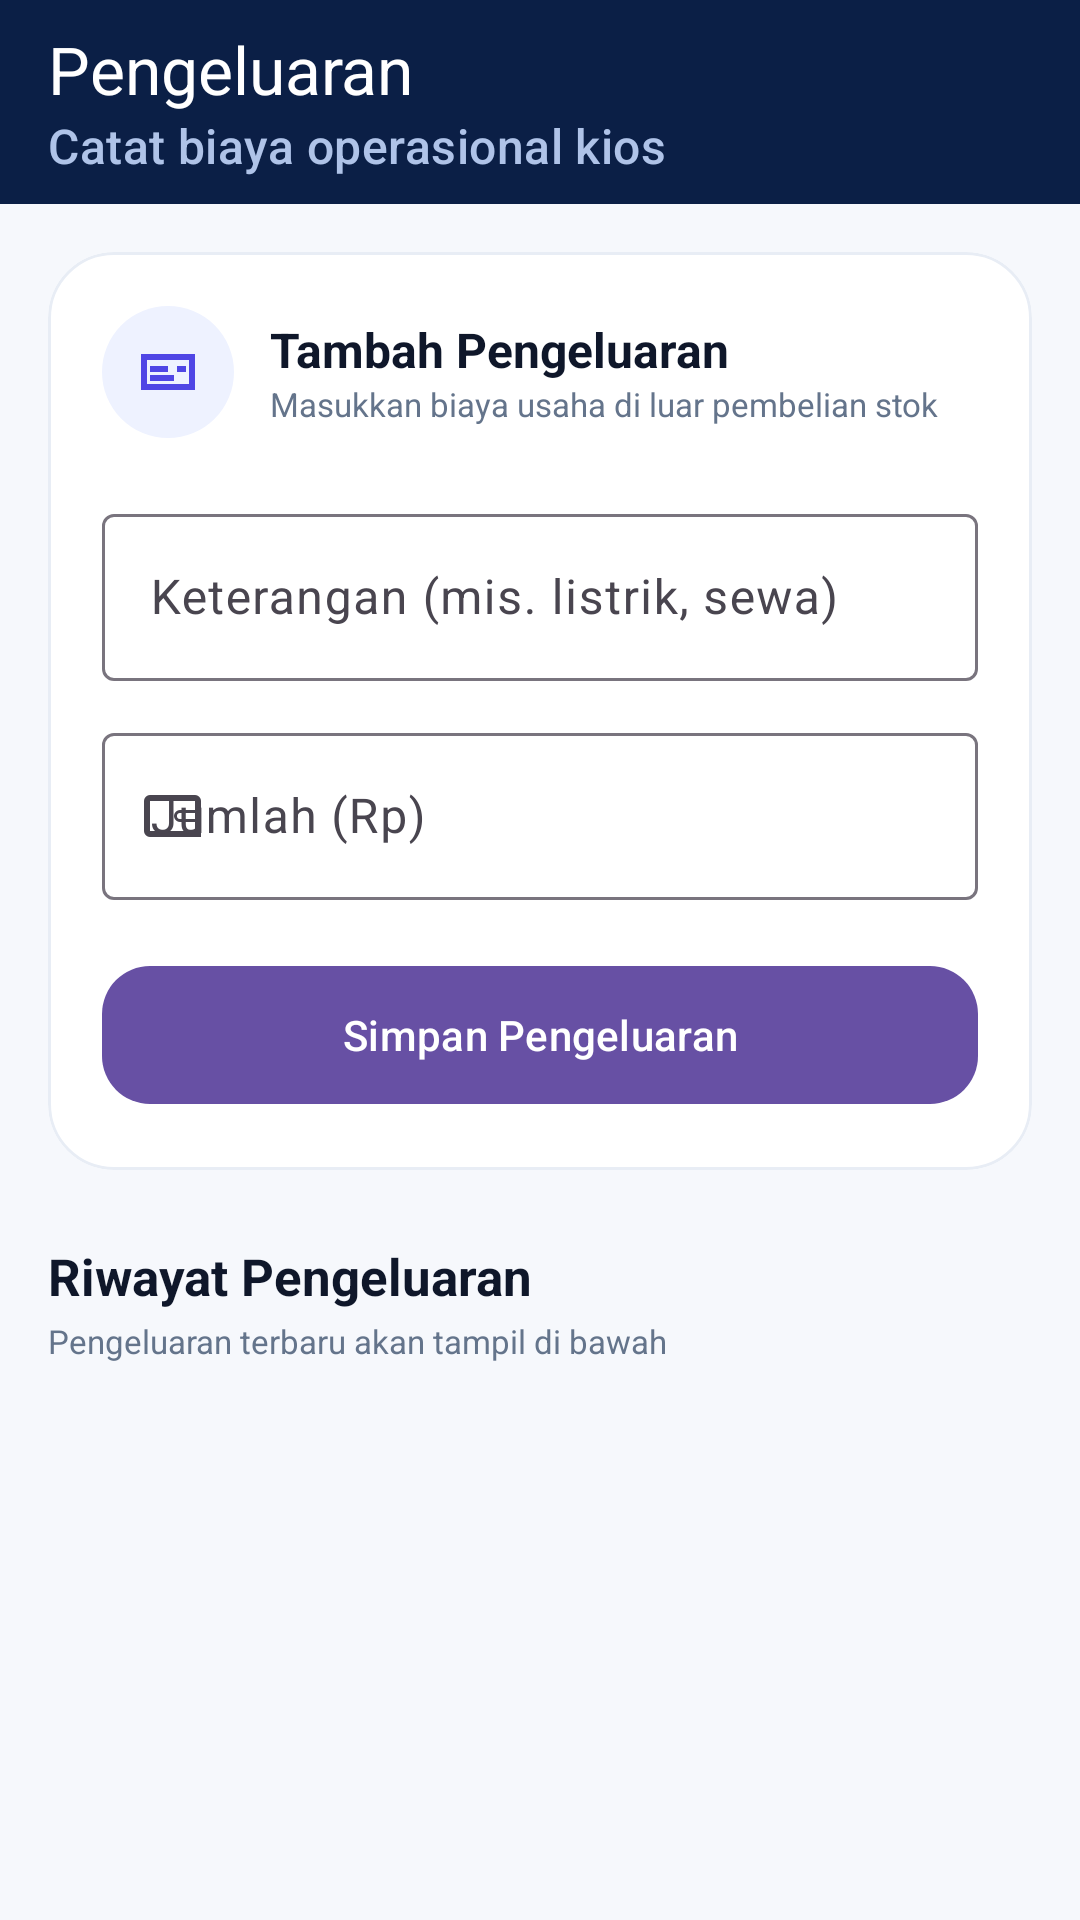

Icon click points for this 1080px x 1920px phone screenshot, format point (x, y):
expense: point (168, 372)
